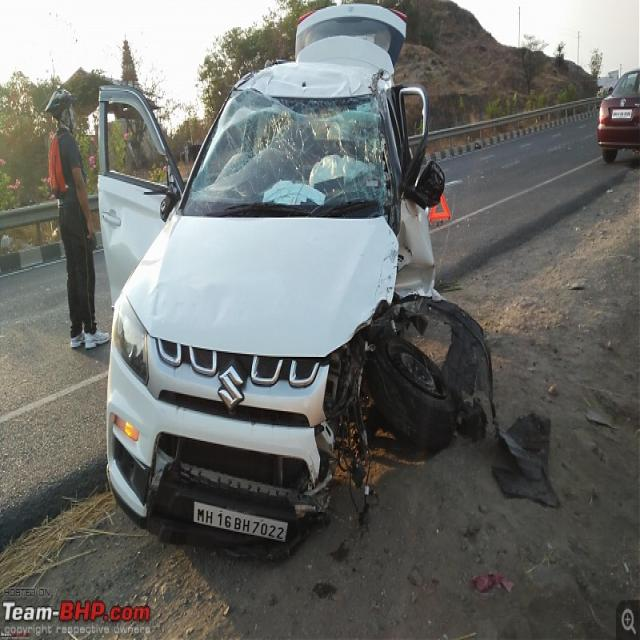plate: (190, 496, 290, 545), (611, 107, 633, 120)
